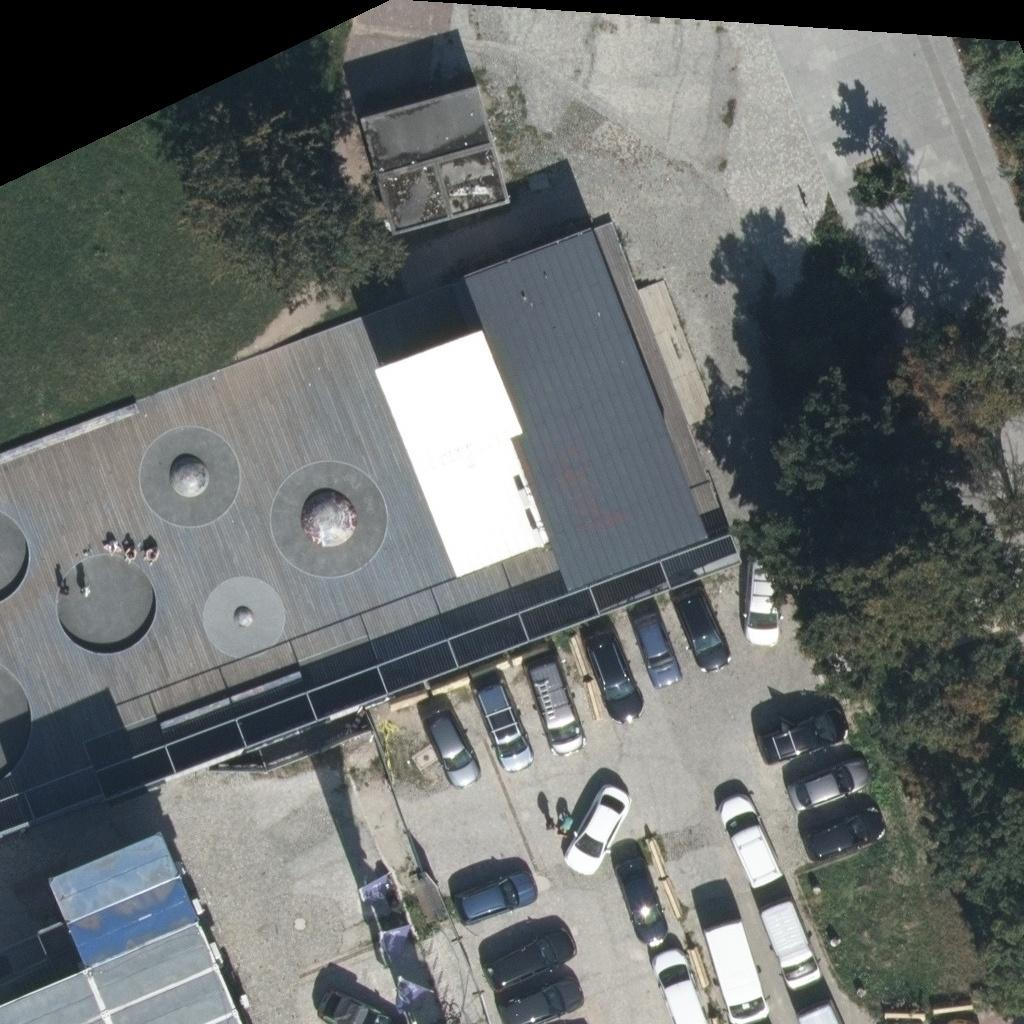pracownik: (144, 541, 158, 562), (125, 548, 135, 562)
samochod_osobowy: (524, 645, 585, 755), (707, 919, 767, 1023), (483, 925, 576, 992), (582, 620, 643, 722), (473, 669, 532, 772), (719, 795, 782, 888), (564, 785, 628, 874), (613, 841, 667, 945), (761, 901, 821, 989), (673, 584, 730, 672), (760, 708, 847, 763), (497, 968, 583, 1023), (628, 599, 681, 688), (789, 754, 869, 811), (808, 801, 884, 860), (424, 704, 478, 787), (652, 943, 708, 1023), (452, 871, 537, 923), (741, 560, 780, 645), (318, 991, 390, 1023)
